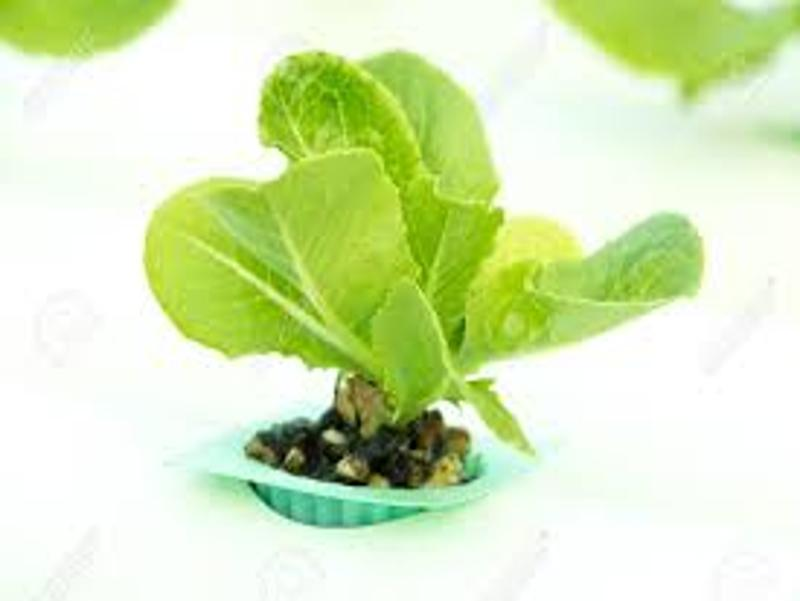green lettuce: (154, 50, 691, 429)
